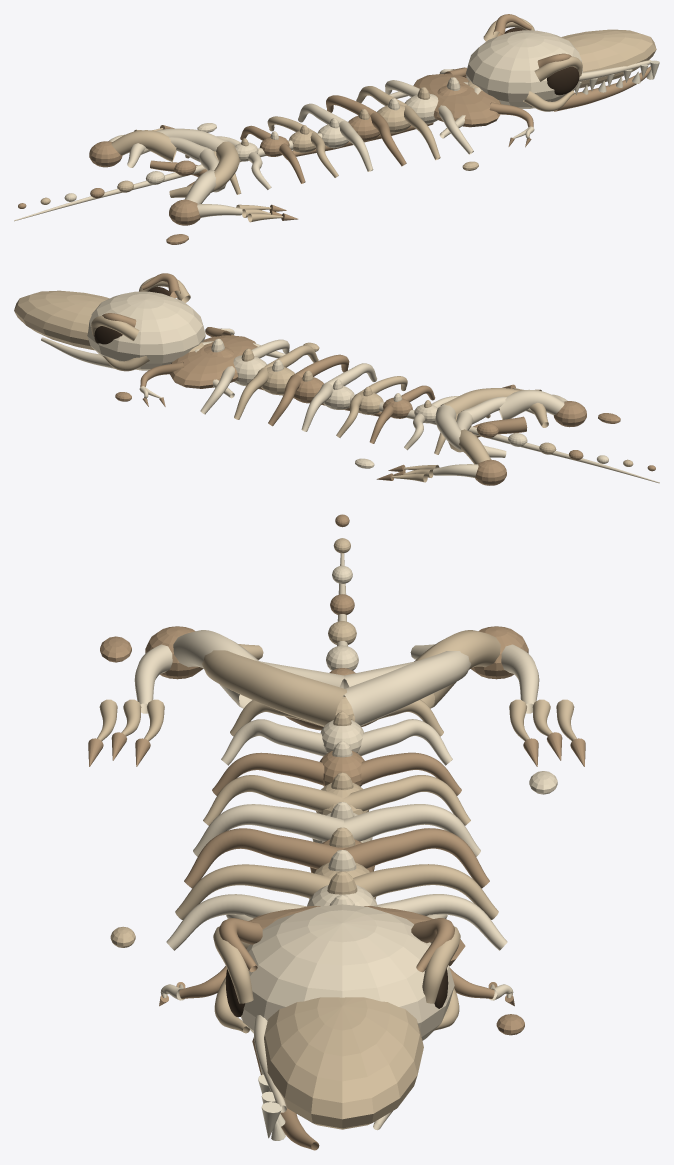
File: esqueleto_tiranossauro.glb
3 views of the same model, one above another, from view 1: azimuth 30°, elevation 25°; view 2: azimuth 150°, elevation 25°; view 3: azimuth 270°, elevation 25° (orthographic). The views are drawn at different scales.
Visible parts, largest first — view 1: Crânio largo, Focinho superior, Cintura escapular, Fêmur robusto 1, Arco do ílio esquerdo, Arco do ílio direito, Mandíbula inferior, Coluna vertebral contínua, Fêmur robusto -1, Órbita escura -1, Rótula -1, Rótula 1 (+25 smaller); view 2: Crânio largo, Focinho superior, Cintura escapular, Fêmur robusto -1, Arco do ílio esquerdo, Arco do ílio direito, Coluna vertebral contínua, Fêmur robusto 1, Rótula 1, Rótula -1, Vértebra da coluna 03, Mandíbula distante (+27 smaller); view 3: Focinho superior, Crânio largo, Arco do ílio esquerdo, Arco do ílio direito, Costela 02 -1, Costela 01 -1, Costela 03 -1, Costela 02 1, Costela 01 1, Costela 03 1, Costela 04 -1, Costela 04 1 (+19 smaller).
Boxes of the visible parts, x1,y1,x2,y2 form: Crânio largo: (466, 30, 583, 108); Focinho superior: (561, 29, 656, 88); Cintura escapular: (413, 74, 500, 127); Fêmur robusto 1: (111, 130, 176, 162); Arco do ílio esquerdo: (169, 141, 239, 197); Arco do ílio direito: (127, 128, 227, 167); Mandíbula inferior: (553, 66, 650, 111); Coluna vertebral contínua: (14, 133, 322, 221); Fêmur robusto -1: (184, 169, 226, 204); Órbita escura -1: (547, 66, 579, 95); Rótula -1: (169, 199, 200, 225); Rótula 1: (89, 141, 122, 167); Crânio largo: (87, 291, 205, 370); Focinho superior: (14, 290, 109, 350); Cintura escapular: (170, 335, 257, 388); Fêmur robusto -1: (499, 389, 564, 419); Arco do ílio esquerdo: (440, 388, 548, 427); Arco do ílio direito: (435, 404, 506, 457); Coluna vertebral contínua: (350, 394, 659, 483); Fêmur robusto 1: (448, 429, 490, 464); Rótula 1: (475, 459, 506, 485); Rótula -1: (554, 401, 586, 427); Vértebra da coluna 03: (233, 355, 266, 386); Mandíbula distante: (41, 337, 114, 368); Focinho superior: (264, 997, 423, 1129); Crânio largo: (241, 904, 454, 1040); Arco do ílio esquerdo: (202, 644, 346, 726); Arco do ílio direito: (343, 644, 471, 725); Costela 02 -1: (184, 828, 343, 888); Costela 01 -1: (175, 864, 331, 919); Costela 03 -1: (193, 804, 344, 856); Costela 02 1: (343, 828, 489, 888); Costela 01 1: (353, 864, 498, 919); Costela 03 1: (343, 804, 480, 856); Costela 04 -1: (203, 775, 344, 825); Costela 04 1: (343, 775, 470, 825).
Bounding box in the file's own units: 4.08 × 0.4138 × 1.37.
